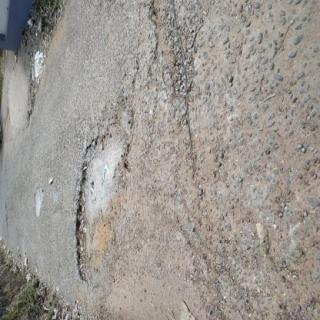pothole: (76, 97, 132, 280), (149, 0, 205, 126)
